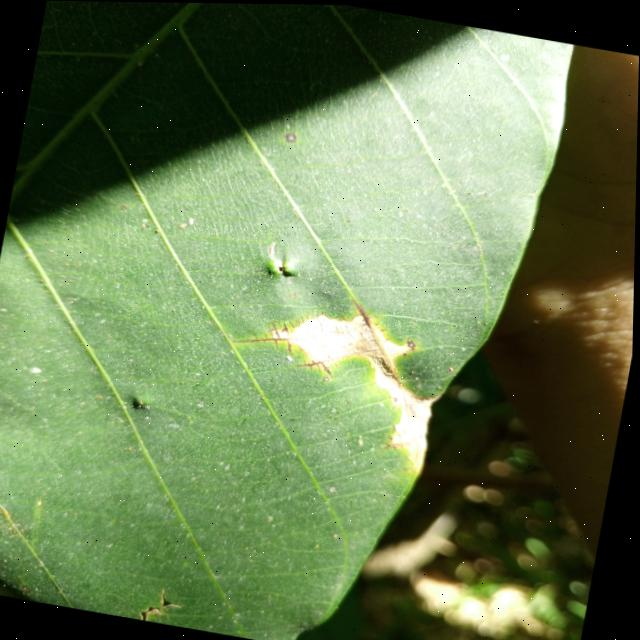Colletotrichum: (285, 131, 298, 142), (409, 341, 417, 348)
Corynespora: (233, 313, 300, 353), (294, 347, 342, 377), (353, 300, 381, 328)
Leaf-Blight: (257, 301, 451, 470)
